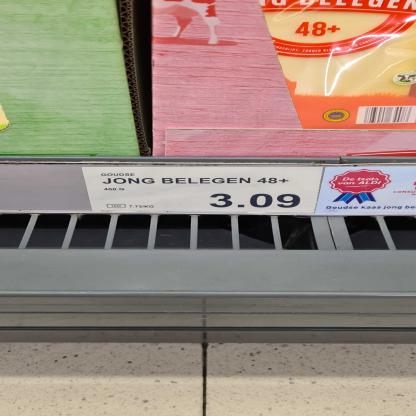prtg: (83, 168, 324, 213)
